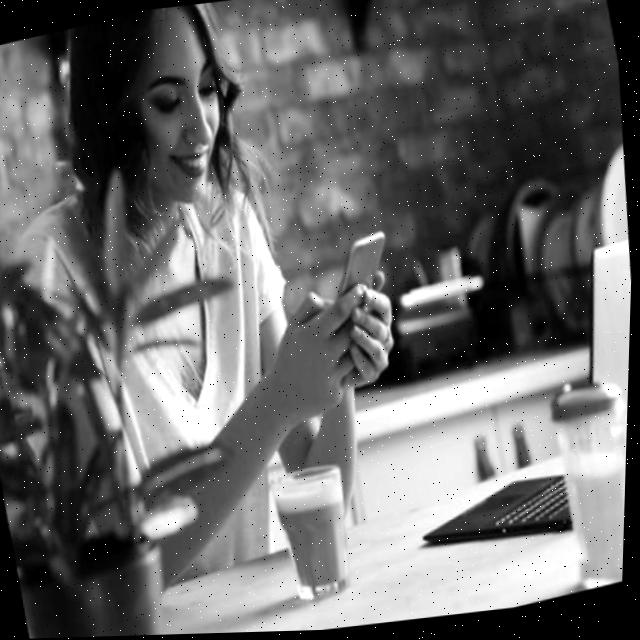phone: (326, 230, 399, 303)
